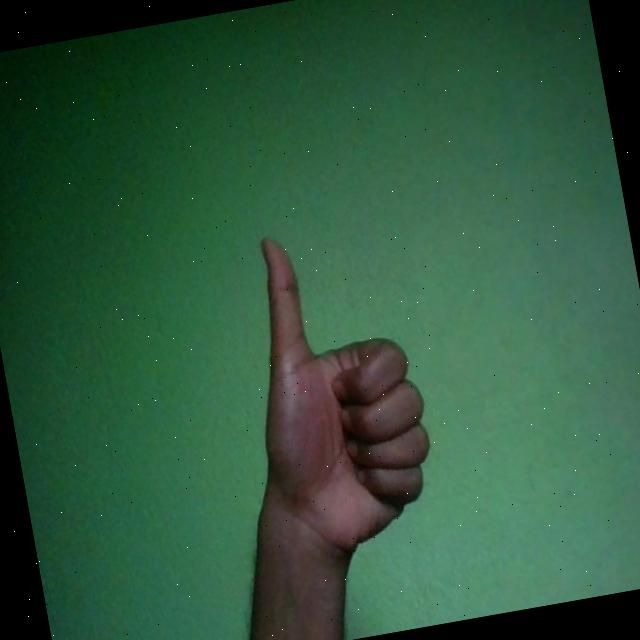Good Job: (230, 215, 450, 570)
